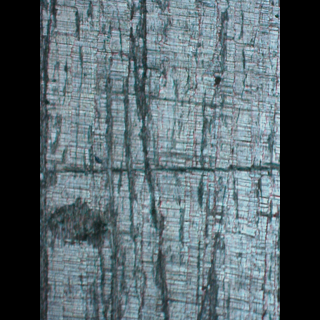d: (40, 191, 111, 250)
